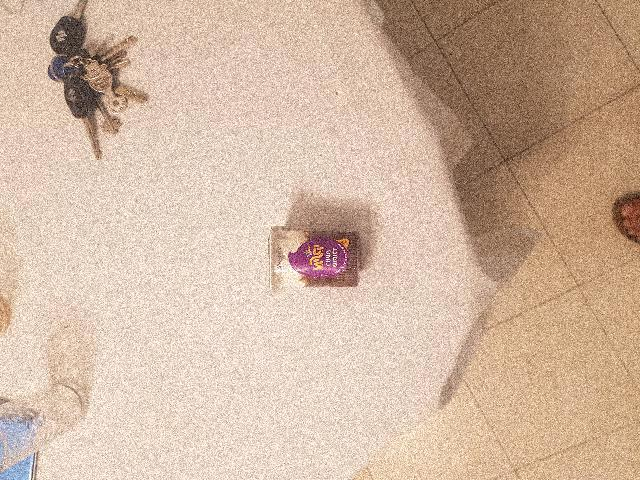milky: (185, 255, 261, 369)
